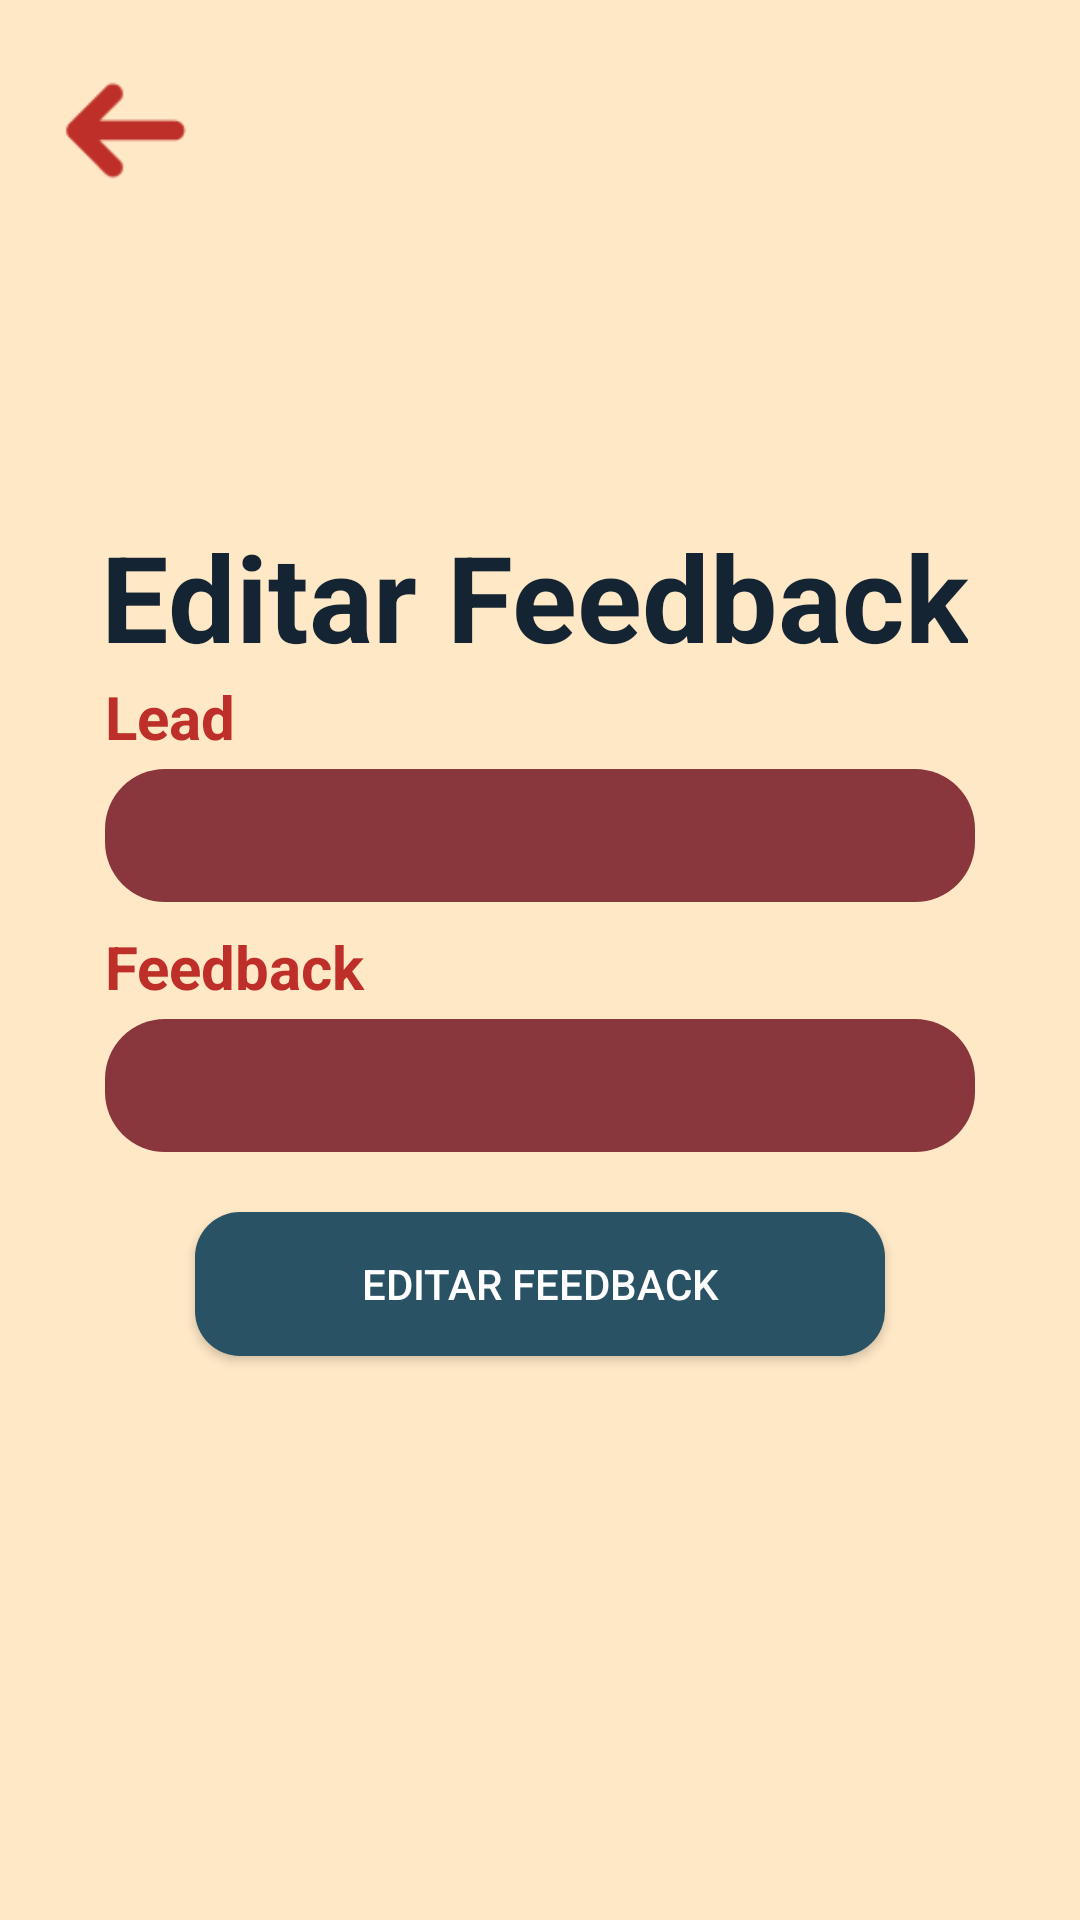

Icon click points for this 1080w x 1920h phone screenshot, format (x,y):
arrow: (126,130)
